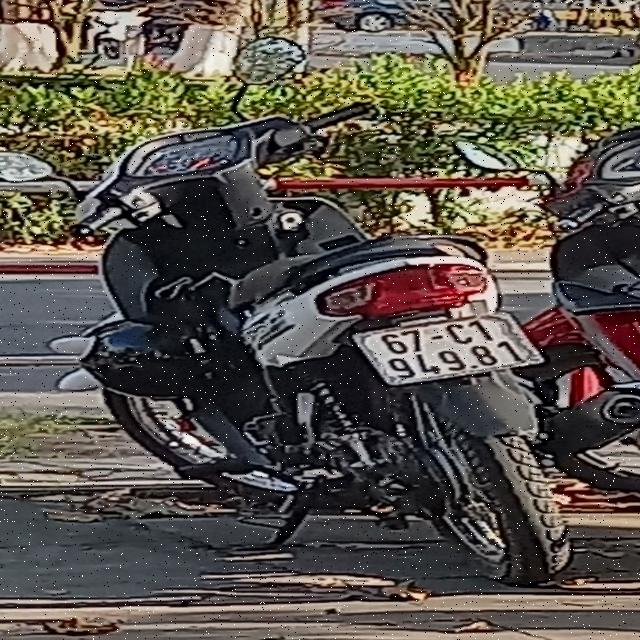1: (468, 319, 494, 342), (494, 340, 522, 361)
4: (412, 353, 442, 373)
6: (381, 334, 412, 354)
7: (402, 329, 426, 352)
8: (468, 345, 497, 366)
9: (387, 357, 416, 379), (439, 350, 468, 371)
C: (446, 322, 474, 344)
